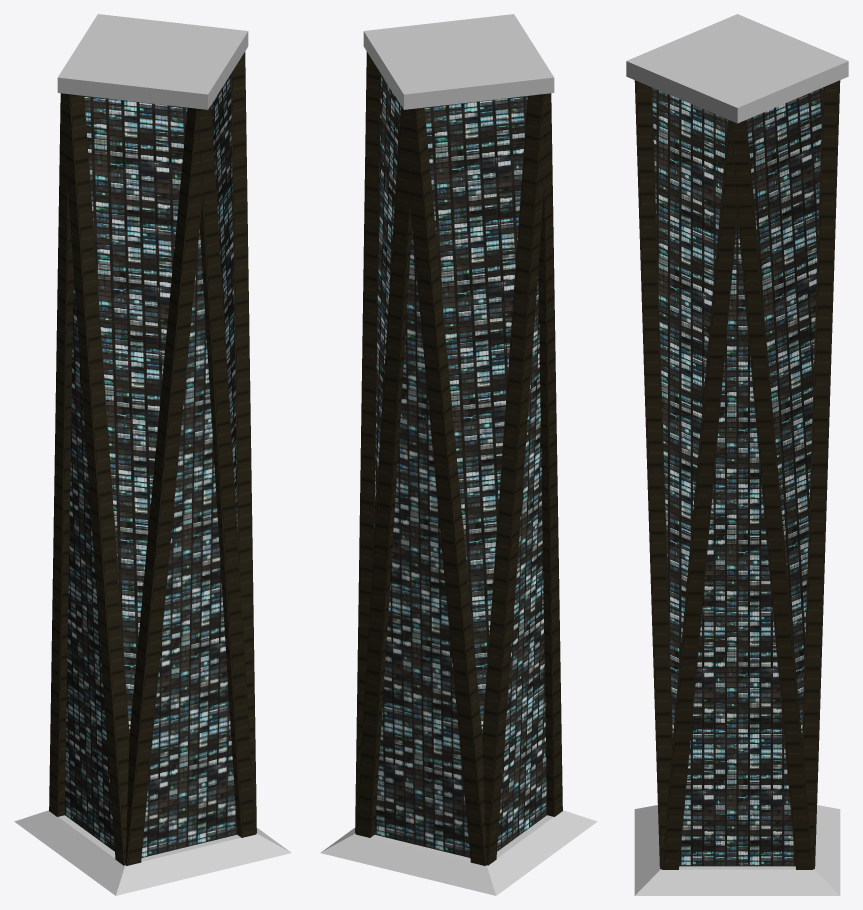
Rendered from Haus4.dae.
3 views of the same model, side by side, from view 1: azimuth 30°, elevation 25°; view 2: azimuth 150°, elevation 25°; view 3: azimuth 270°, elevation 25° (orthographic).
Parts seen in each view (by area): view 1: cube1, cube8, cube7, cube2, cube10, cube9, cube5, cube11; view 2: cube1, cube3, cube9, cube6, cube10, cube8, cube4, cube11; view 3: cube1, cube10, cube4, cube5, cube2, cube6, cube11.
Boxes of the visible parts, x1=… form: cube1: x1=65, y1=74, x2=237, y2=857; cube8: x1=61, y1=93, x2=129, y2=865; cube7: x1=125, y1=106, x2=210, y2=865; cube2: x1=196, y1=105, x2=256, y2=837; cube10: x1=57, y1=14, x2=248, y2=109; cube9: x1=49, y1=93, x2=73, y2=816; cube5: x1=231, y1=51, x2=256, y2=833; cube11: x1=14, y1=810, x2=291, y2=895; cube1: x1=374, y1=74, x2=546, y2=857; cube3: x1=401, y1=106, x2=486, y2=865; cube9: x1=482, y1=93, x2=550, y2=865; cube6: x1=355, y1=105, x2=415, y2=837; cube10: x1=363, y1=14, x2=554, y2=109; cube8: x1=538, y1=93, x2=562, y2=816; cube4: x1=355, y1=51, x2=380, y2=833; cube11: x1=320, y1=810, x2=597, y2=895; cube1: x1=652, y1=87, x2=822, y2=866; cube10: x1=626, y1=14, x2=848, y2=123; cube4: x1=729, y1=120, x2=813, y2=869; cube5: x1=661, y1=120, x2=745, y2=869; cube2: x1=634, y1=80, x2=672, y2=868; cube6: x1=802, y1=80, x2=840, y2=868; cube11: x1=634, y1=805, x2=840, y2=895.
Size of the model in its own units: 1664 by 6528 by 1664.
